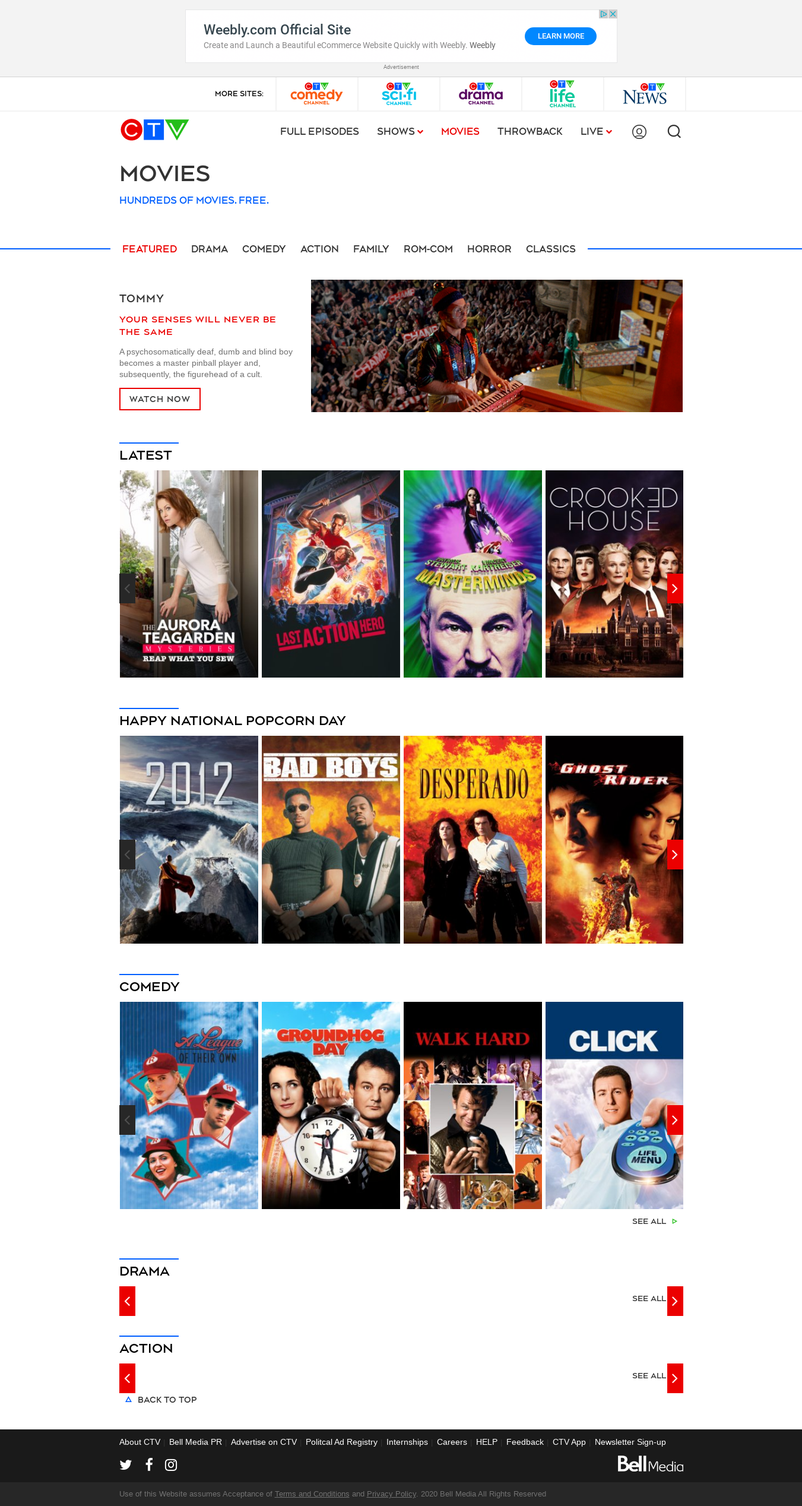fake_button: (111, 385, 212, 417)
